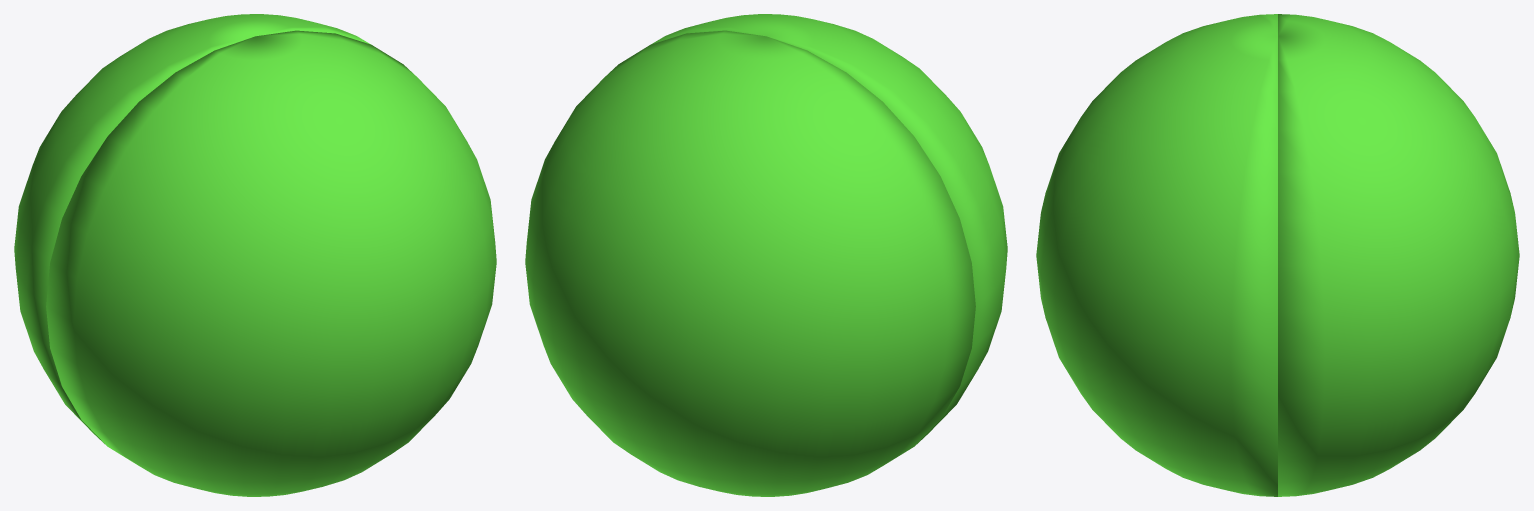
The model's file is Watermelon_Sliced.fbx.
3 renders of one model, left to right at view 1: azimuth 30°, elevation 25°; view 2: azimuth 150°, elevation 25°; view 3: azimuth 270°, elevation 25°, orthographic.
Visible parts, largest first — view 1: Sphere, Sphere.002; view 2: Sphere.002, Sphere; view 3: Sphere.002, Sphere.
Part boxes in pixels (left/top/right/bottom): Sphere: left=46, top=30, right=496, bottom=496; Sphere.002: left=14, top=14, right=370, bottom=443; Sphere.002: left=525, top=30, right=975, bottom=496; Sphere: left=651, top=14, right=1007, bottom=443; Sphere.002: left=1278, top=14, right=1519, bottom=496; Sphere: left=1036, top=14, right=1277, bottom=496.
Bounding box in the file's own units: 200 × 200 × 200.
